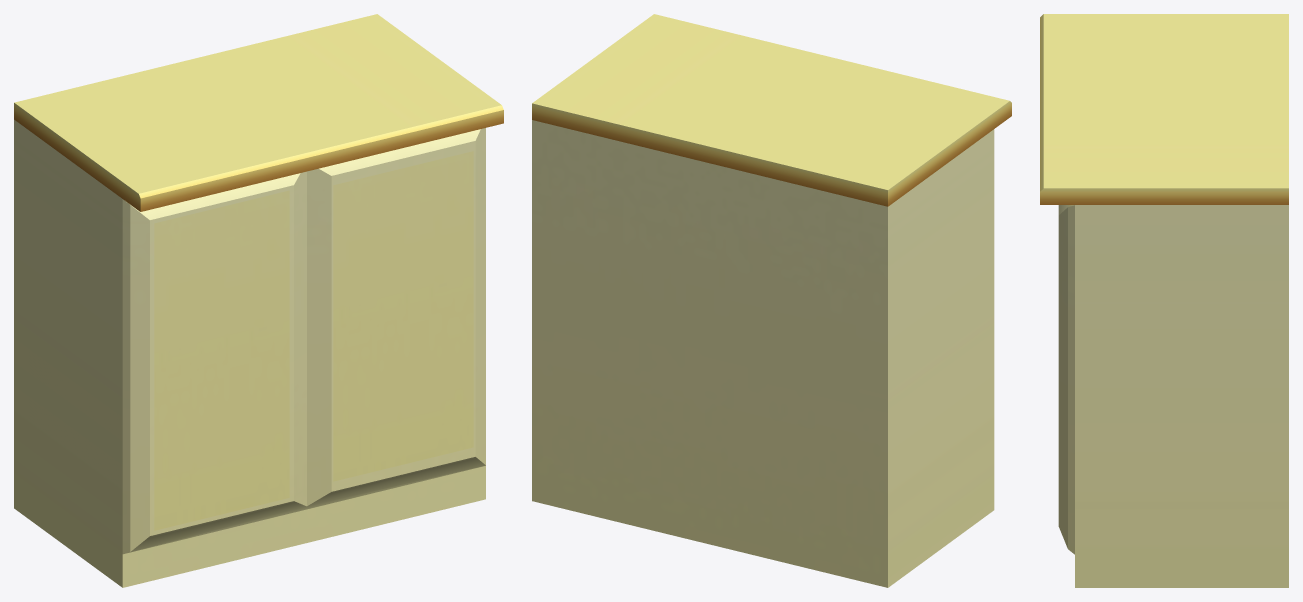
Rendered from counter.fbx.
3 views of the same model, side by side, from view 1: azimuth 30°, elevation 25°; view 2: azimuth 150°, elevation 25°; view 3: azimuth 270°, elevation 25° (orthographic). The views are drawn at different scales.
Visible parts, largest first — view 1: counter1; view 2: counter1; view 3: counter1.
Part boxes in pixels (box(x1,y1,x2,y2)): counter1: box(14, 14, 503, 587); counter1: box(532, 14, 1011, 587); counter1: box(1040, 14, 1288, 587).
Size of the model in its own units: 2.87 by 3.06 by 1.73.
